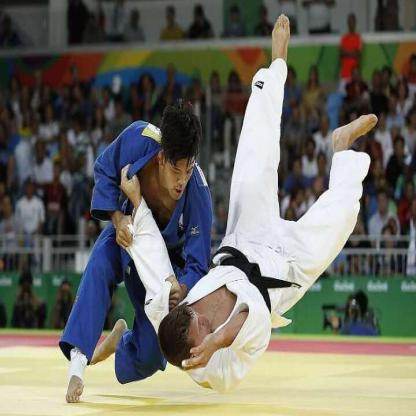Fall_Down: (119, 13, 375, 385)
